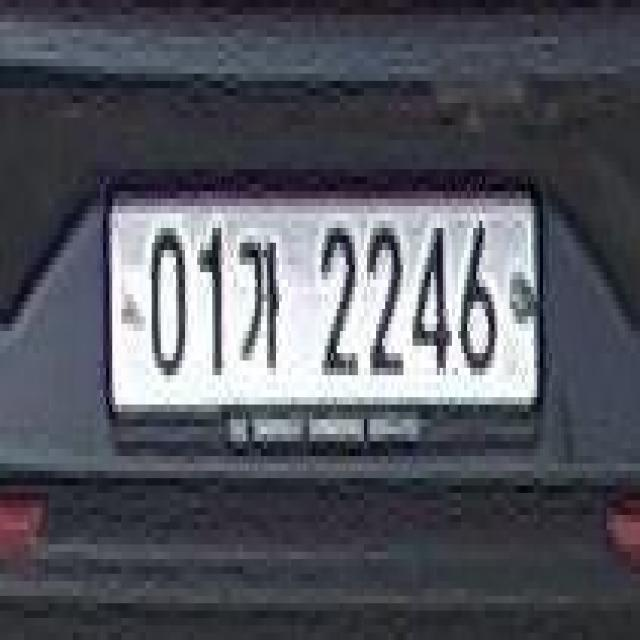illegal_plate: (103, 162, 545, 473)
